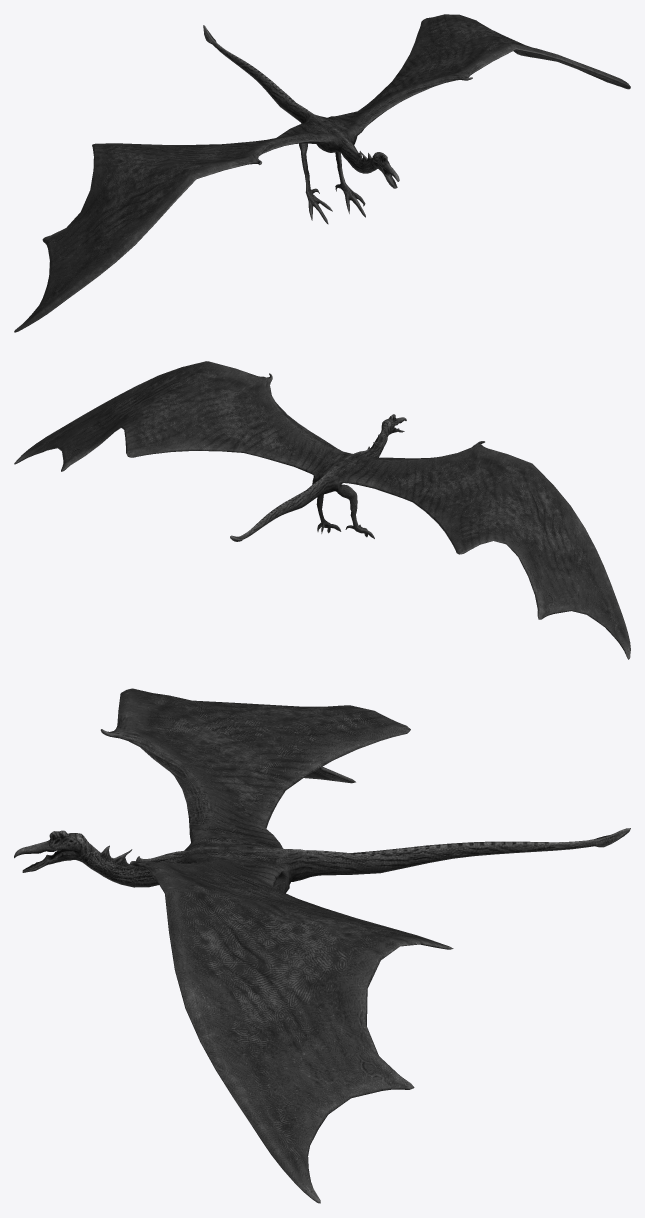
Rendered from Fellbeast_Animate_Grab_Glide_35.obj.
3 views of the same model, one above another, from view 1: azimuth 30°, elevation 25°; view 2: azimuth 150°, elevation 25°; view 3: azimuth 270°, elevation 25° (orthographic). The views are drawn at different scales.
Parts seen in each view (by area): view 1: Fellbeast; view 2: Fellbeast; view 3: Fellbeast.
Part boxes in pixels (x1=…): Fellbeast: x1=14, y1=14, x2=630, y2=332; Fellbeast: x1=14, y1=361, x2=630, y2=659; Fellbeast: x1=14, y1=688, x2=630, y2=1203.
Size of the model in its own units: 8.41 by 2.37 by 4.38.
